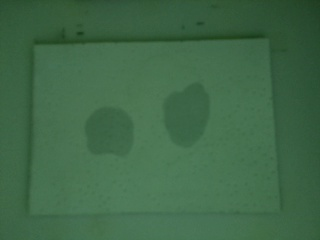Water_detected: (89, 119, 130, 159), (174, 102, 203, 138)
